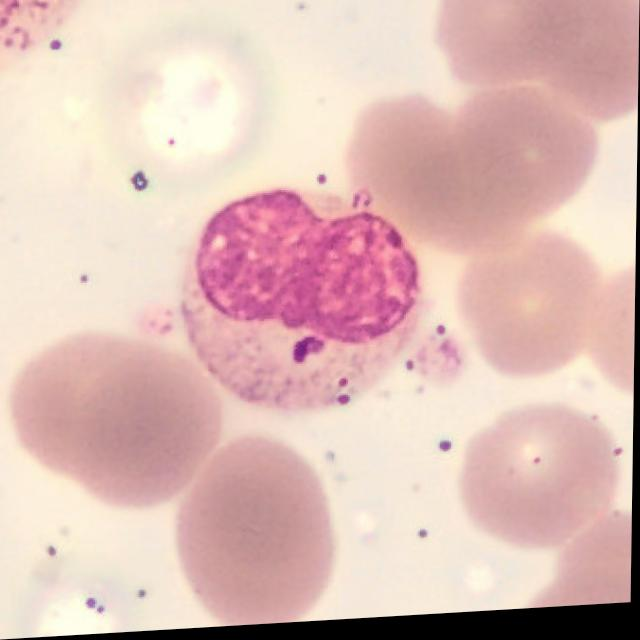Metamielocito: (182, 192, 430, 415)
